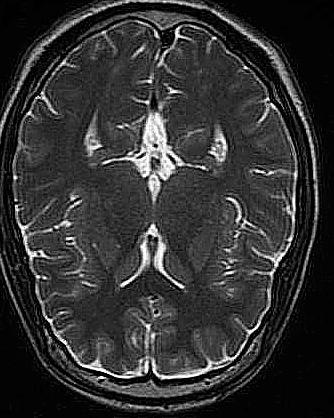Normal_Brain: (1, 1, 334, 418)
